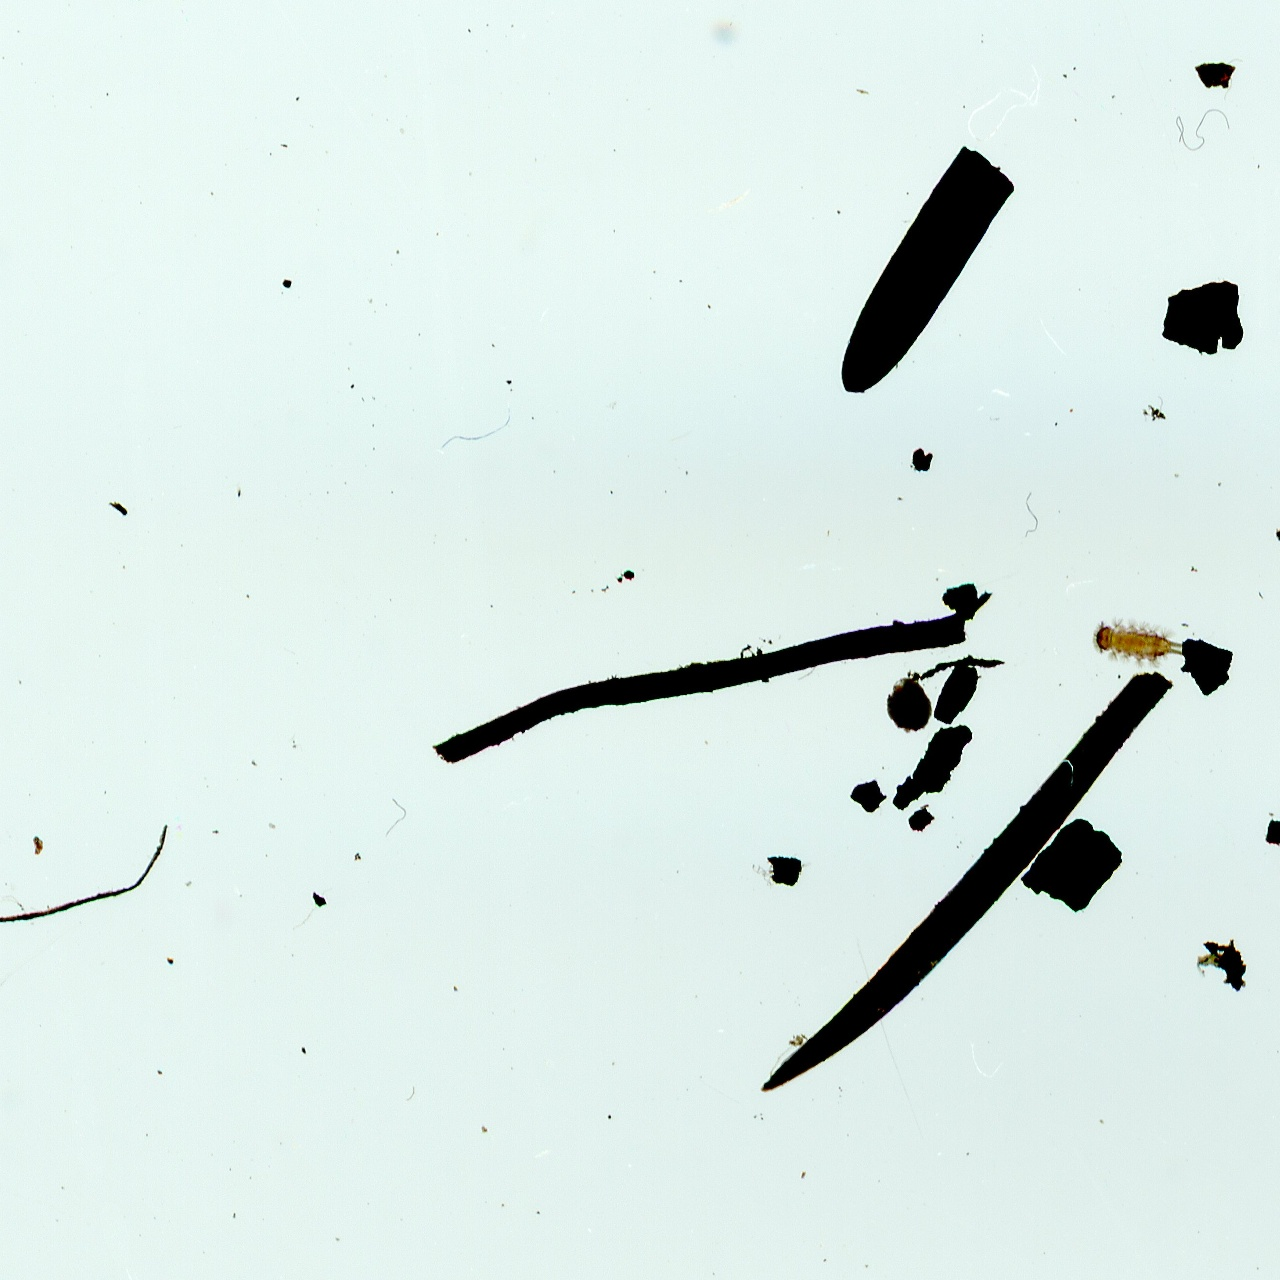arthropod: (1089, 617, 1190, 667)
